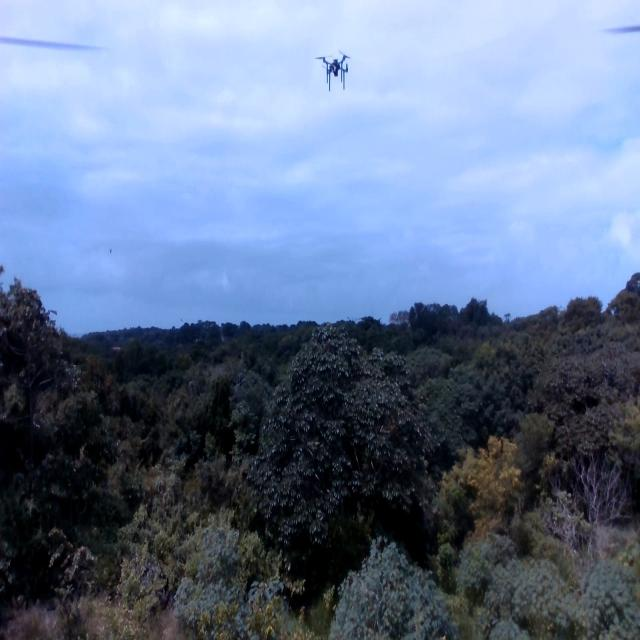-uav-: (316, 48, 355, 94)
